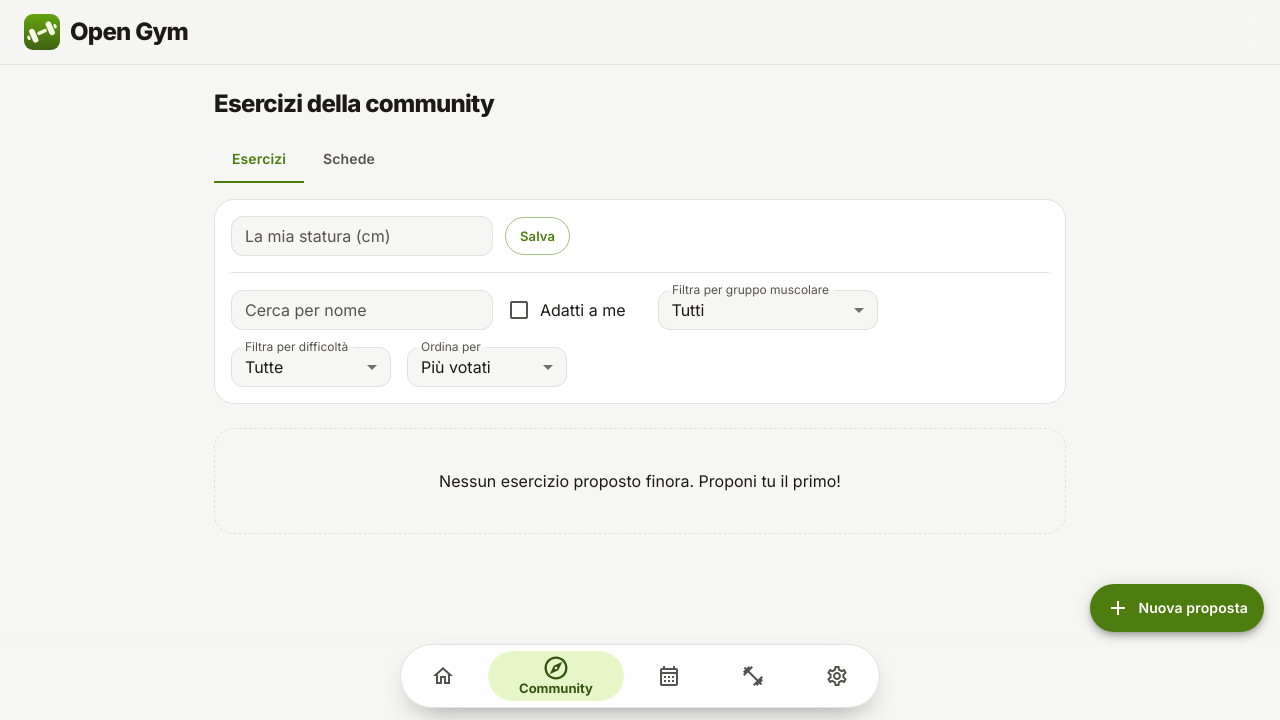
Test case: Gestione esercizi › il volto offuscato è un consiglio, non un obbligo: si propone senza spuntare nulla (M12)
Click the button with test id "tab-community" at (556,676), box [488, 651, 624, 701]
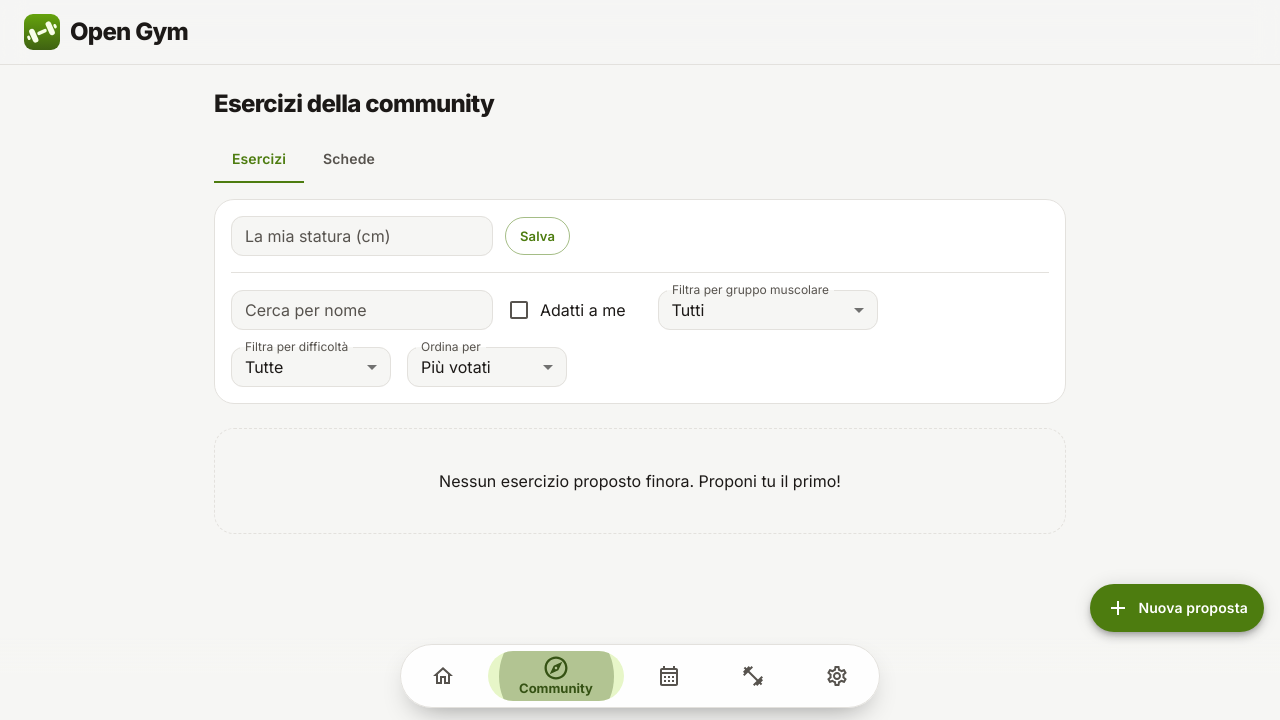
Click the button with test id "propose-toggle" at (1177,608), box [1090, 584, 1264, 632]
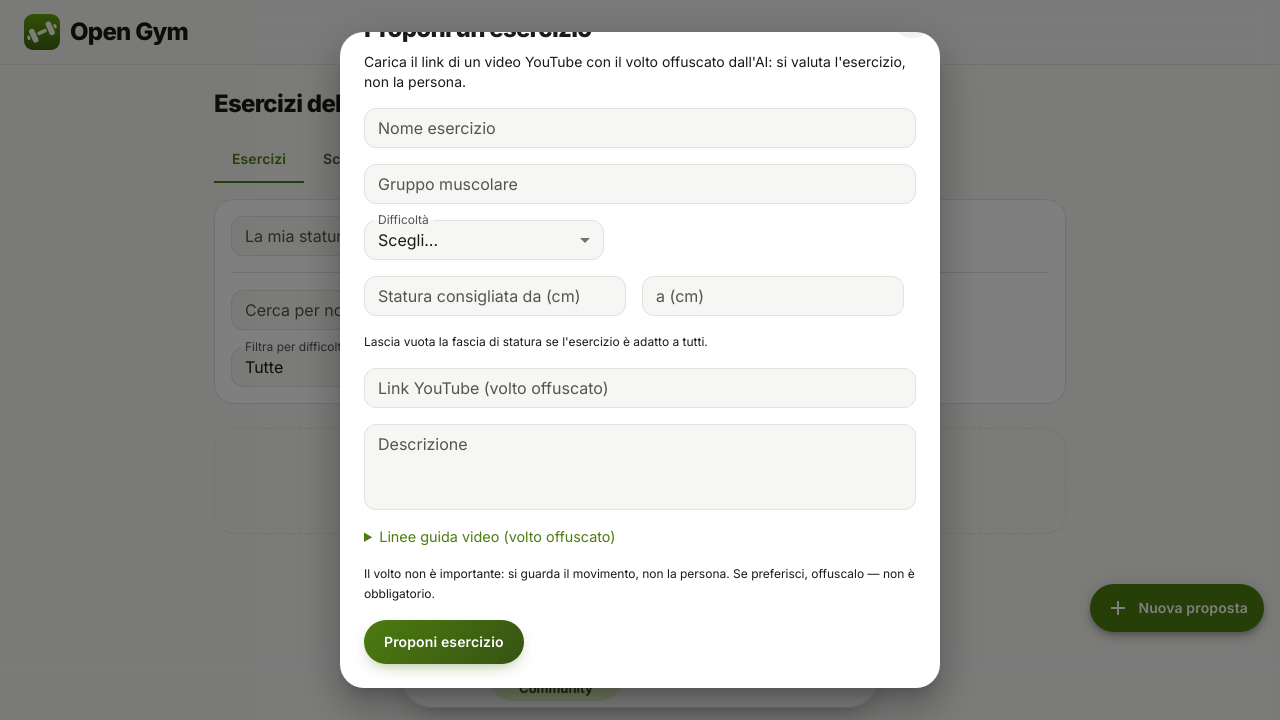
Now the field with test id "exercise-name" is shown, box [364, 108, 916, 148]
Now the text with test id "face-blur-note" is shown, box [364, 564, 916, 604]
Now the button with test id "exercise-submit" is enabled, box [364, 620, 524, 664]
